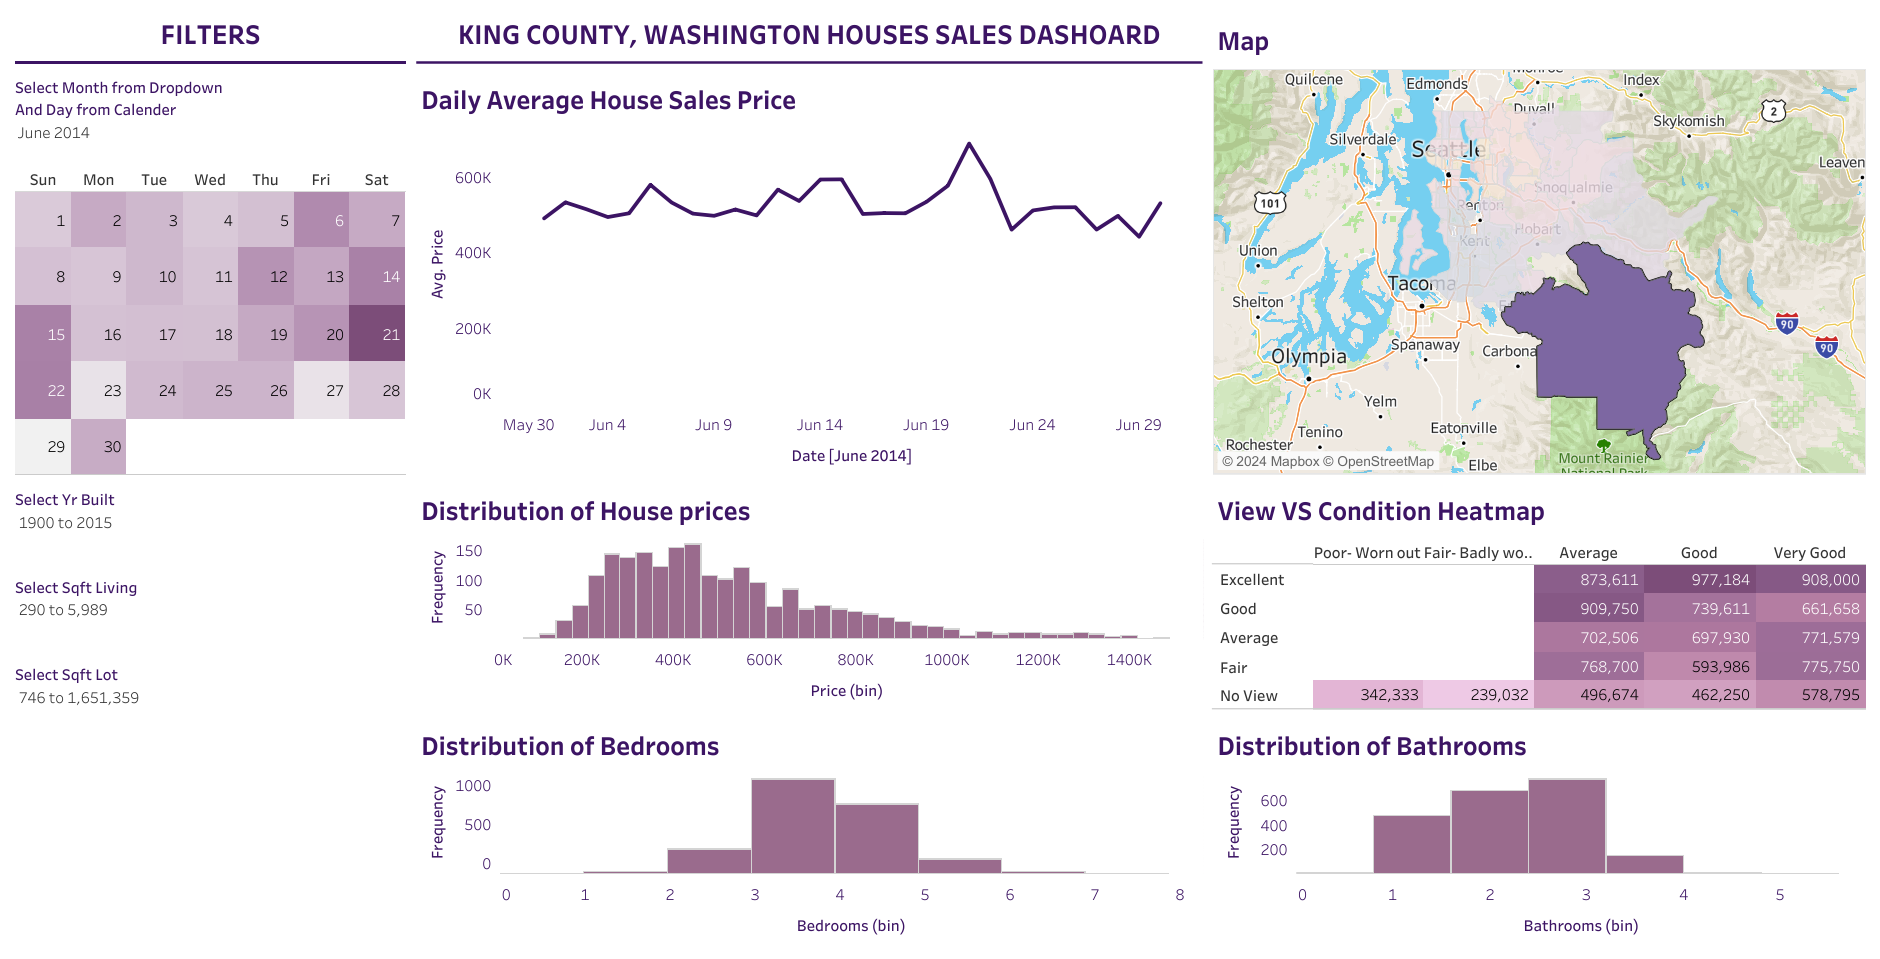

The dashboard page shown, as its layout file describes it:
{"tool":"tableau","page":{"name":"King County House Sales Dashboard","canvas":[1000,1000],"units":"permille","ordinal":0},"visuals":[{"type":"text","box":[4.7,9.4,213.2,52.9]},{"type":"text","box":[217.9,9.4,424.1,96.4]},{"type":"worksheet","title":"Map","mark":"Automatic","box":[642.1,9.4,353.2,491.2]},{"type":"blank","box":[4.7,62.3,213.2,11.8]},{"type":"filter","title":"calender","param":"[federated.01ukrdi19lv8ag14ar8le1d2hwd4].[my:date:ok]","box":[4.7,74,213.2,96.4]},{"type":"blank","box":[217.9,105.8,424.1,11.8]},{"type":"worksheet","title":"Line Chart","mark":"Automatic","rows":["price"],"cols":["date"],"box":[217.9,117.5,424.1,382.5]},{"type":"worksheet","title":"calender","mark":"Square","rows":["date"],"cols":["date"],"box":[4.7,170.4,213.2,300.8]},{"type":"filter","title":"calender","param":"[federated.01ukrdi19lv8ag14ar8le1d2hwd4].[none:yr_built:qk]","box":[4.7,471.2,213.2,64.6]},{"type":"worksheet","title":"Histogram","mark":"Automatic","rows":["price"],"cols":["Price (bin)"],"box":[217.9,500,424.1,245.3]},{"type":"worksheet","title":"Heatmaps","mark":"Square","rows":["view"],"cols":["condition"],"box":[642.1,500.6,353.2,244.7]},{"type":"filter","title":"calender","param":"[federated.01ukrdi19lv8ag14ar8le1d2hwd4].[none:sqft_living:qk]","box":[4.7,535.8,213.2,64.6]},{"type":"filter","title":"calender","param":"[federated.01ukrdi19lv8ag14ar8le1d2hwd4].[none:sqft_lot:qk]","box":[4.7,600.5,213.2,64.6]},{"type":"worksheet","title":"Bedrooms","mark":"Automatic","rows":["bedrooms"],"cols":["Bedrooms (bin)"],"box":[217.9,745.3,424.1,245.3]},{"type":"worksheet","title":"bathrooms","mark":"Automatic","rows":["bathrooms"],"cols":["Bathrooms (bin)"],"box":[642.1,745.3,353.2,245.3]}]}

Visuals, with their boxes on the dashboard's canvas, which has no fixed pixel size, in thousandths of its width and height (x1, y1, x2, y2). These are canvas units, not pixel positions in the 1880x959 screenshot, which may show the page scaled, cropped or inside an application window:
text: (5,9,218,62)
text: (218,9,642,106)
"Map" worksheet: (642,9,995,501)
blank: (5,62,218,74)
"calender" filter: (5,74,218,170)
blank: (218,106,642,118)
"Line Chart" worksheet: (218,118,642,500)
"calender" worksheet (Square marks): (5,170,218,471)
"calender" filter: (5,471,218,536)
"Histogram" worksheet: (218,500,642,745)
"Heatmaps" worksheet (Square marks): (642,501,995,745)
"calender" filter: (5,536,218,600)
"calender" filter: (5,600,218,665)
"Bedrooms" worksheet: (218,745,642,991)
"bathrooms" worksheet: (642,745,995,991)
